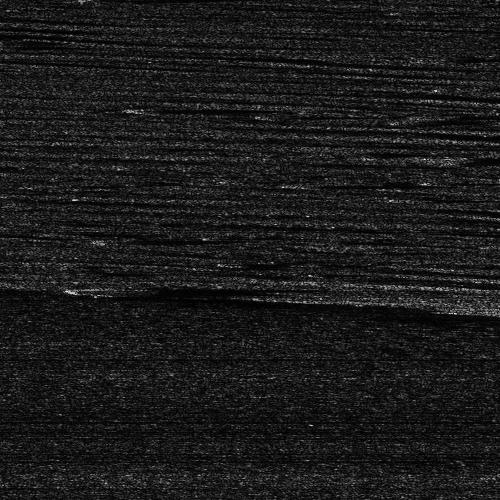object: (259, 180, 342, 187), (95, 105, 158, 112), (73, 236, 126, 241), (377, 197, 430, 200), (447, 154, 478, 157), (430, 113, 441, 120)
shadow: (301, 180, 437, 187), (127, 105, 255, 112), (100, 236, 226, 241), (436, 113, 500, 120), (404, 197, 499, 200), (462, 154, 500, 157)
